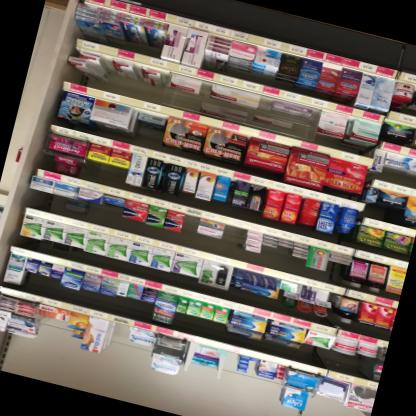empty_space: (219, 225, 249, 261), (105, 322, 132, 360), (178, 214, 201, 249), (221, 351, 240, 385)
